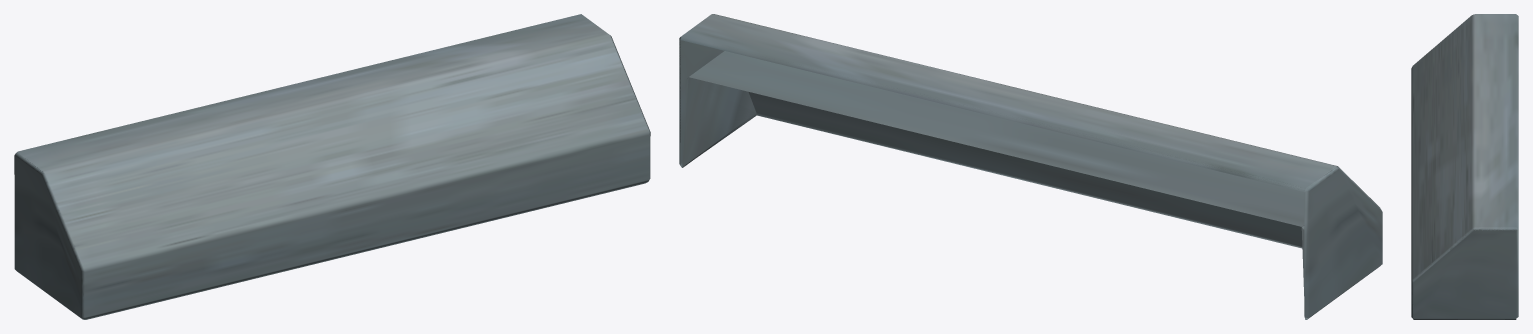
File: CommercialTent_04 (4).fbx
The picture shows the model from 3 angles, left to right: view 1: azimuth 30°, elevation 25°; view 2: azimuth 150°, elevation 25°; view 3: azimuth 270°, elevation 25°; orthographic projection. The views are drawn at different scales.
Parts seen in each view (by area): view 1: CommercialTent_04__4_; view 2: CommercialTent_04__4_, _000_static_CommercialTent_04__4__1, _000_static_CommercialTent_04__4_; view 3: CommercialTent_04__4_.
Boxes of the visible parts, <box> form: CommercialTent_04__4_: <box>14,14,650,319</box>; CommercialTent_04__4_: <box>679,14,1382,319</box>; _000_static_CommercialTent_04__4__1: <box>680,40,1302,245</box>; _000_static_CommercialTent_04__4_: <box>679,40,1337,317</box>; CommercialTent_04__4_: <box>1411,14,1518,319</box>.
Bounding box in the file's own units: 543 × 110 × 115.
